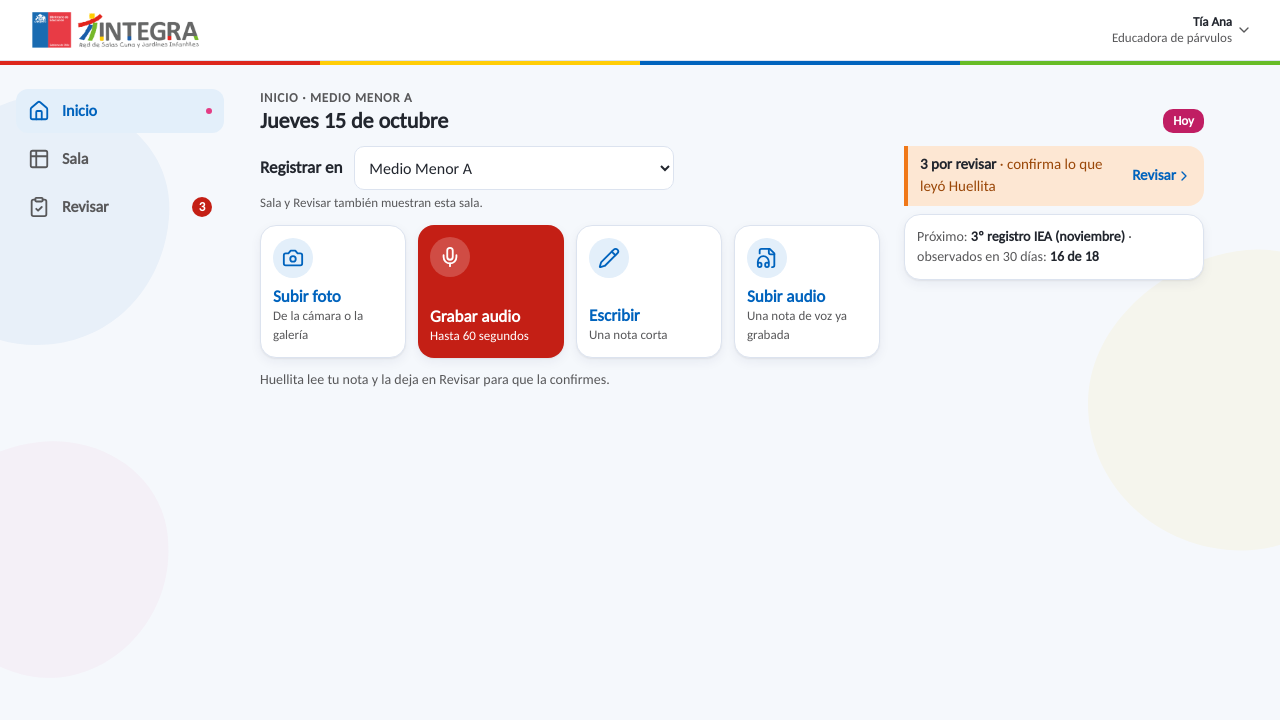
Scenario: Inicio › Subir foto deja sacar la foto o elegirla de la galería
Click the button "Subir foto De la cámara o la galería": coordinates (333, 292) top-left (260, 225), bottom-right (406, 358)
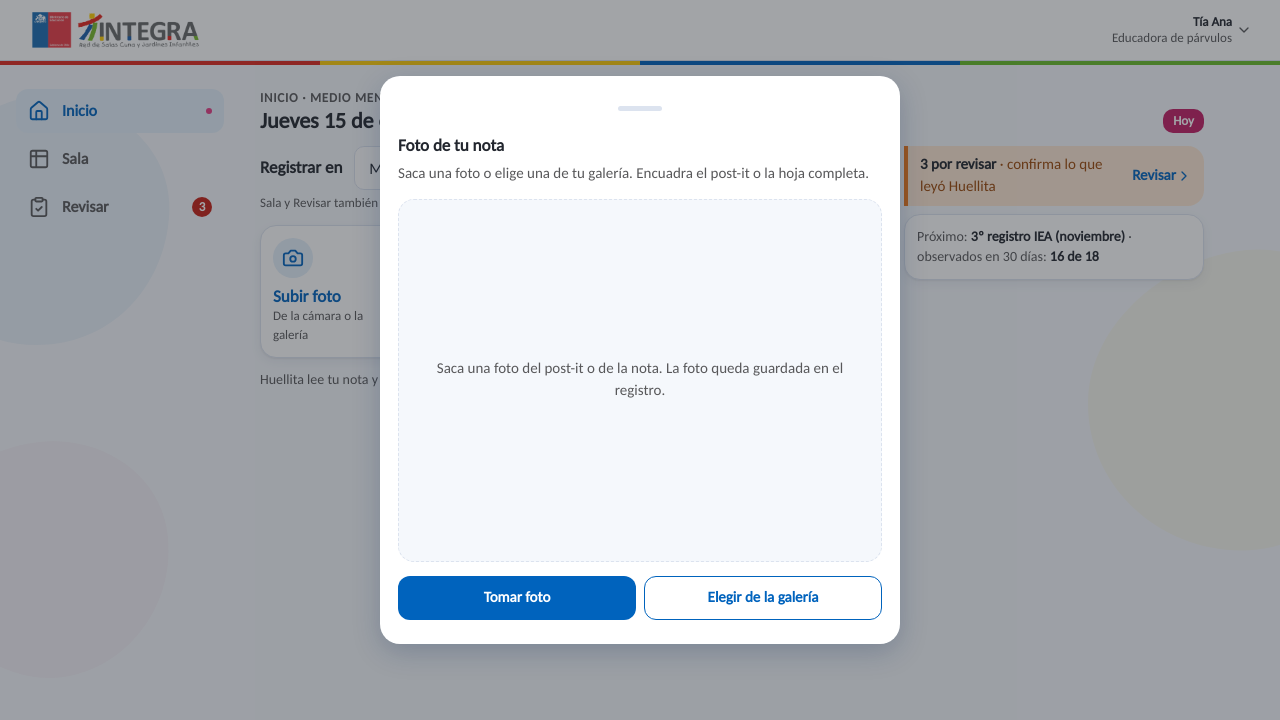
Check: the text "Foto de tu nota" is shown, box top-left (398, 135), bottom-right (504, 156)
Check: the text "Tomar foto" is shown, box top-left (398, 576), bottom-right (636, 620)
Check: the text "Elegir de la galería" is shown, box top-left (644, 576), bottom-right (882, 620)
